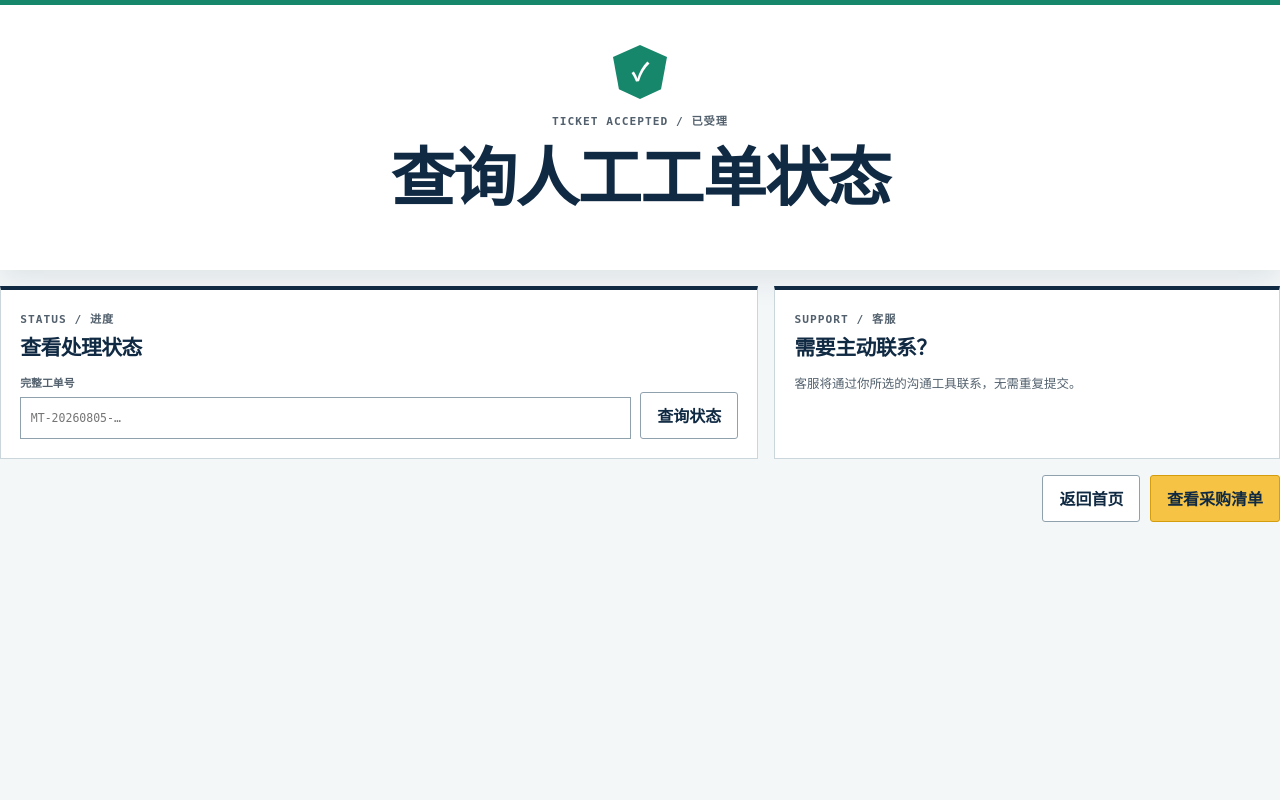
Test case: InquirySuccessPage › queries a ticket and renders masked contact and resolved parts
Type "MT-20260805-AAAAAAAAAAAAAAAAAAAAAAAAAAAAAAAA" into the field labelled "完整工单号". click: (325, 418)
box: [20, 397, 631, 439]
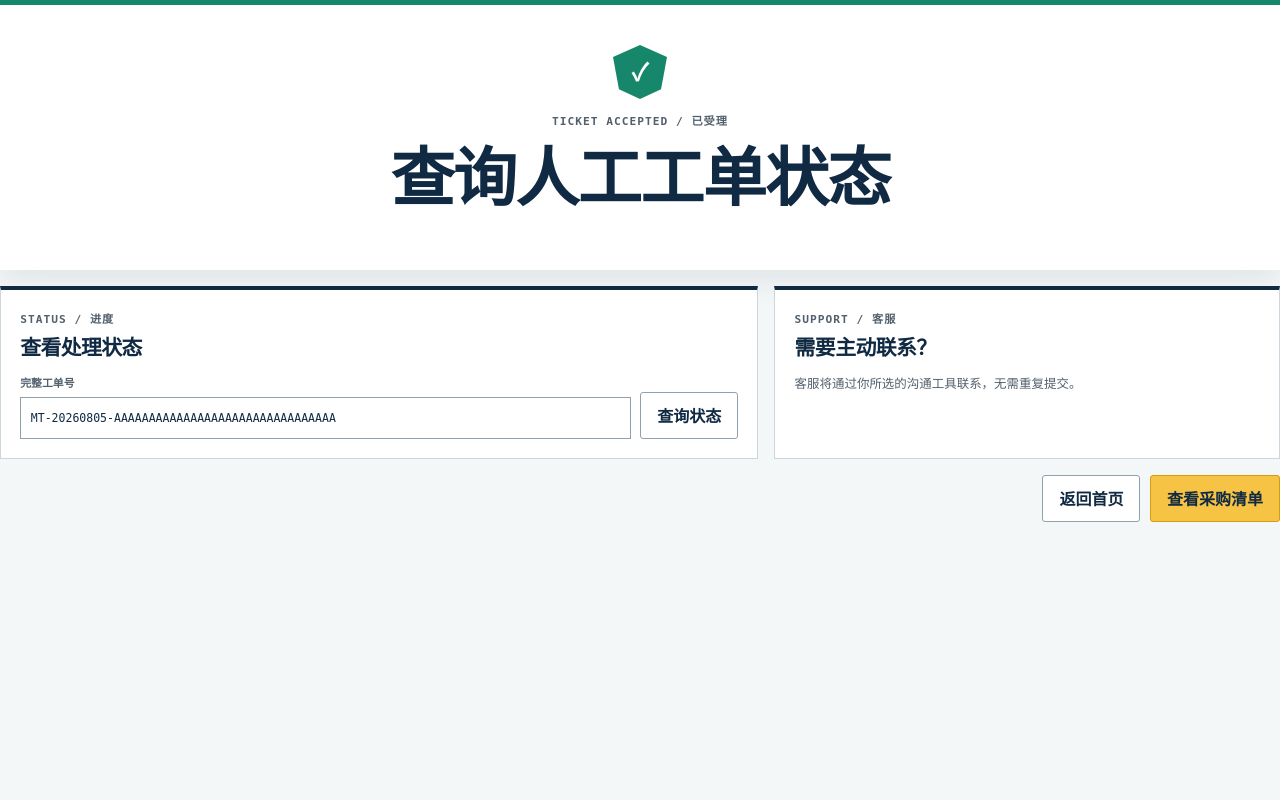
Click the button "查询状态". click: (689, 416)
box: [640, 392, 738, 439]
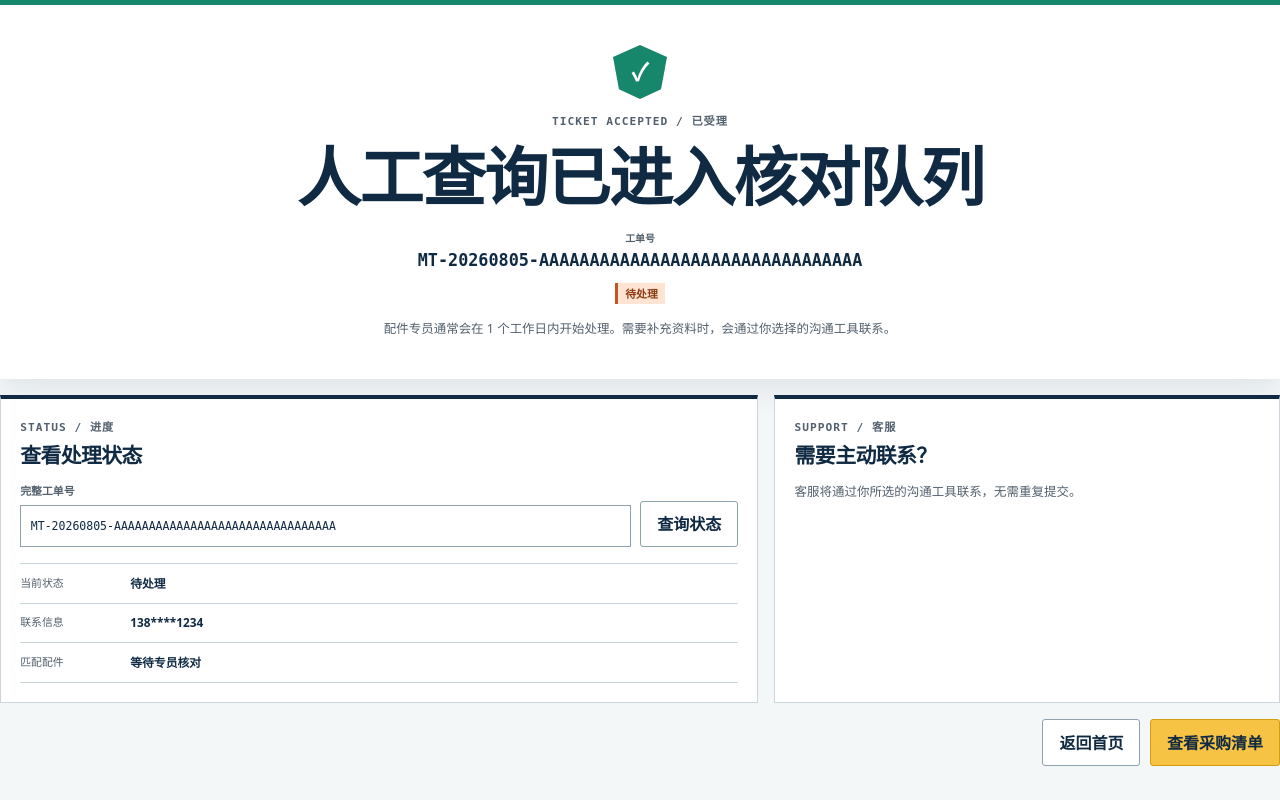
Check: the text "PN-1 × 2" is shown, box [130, 654, 201, 670]
Check: the text "138****1234" is shown, box [130, 614, 203, 630]
